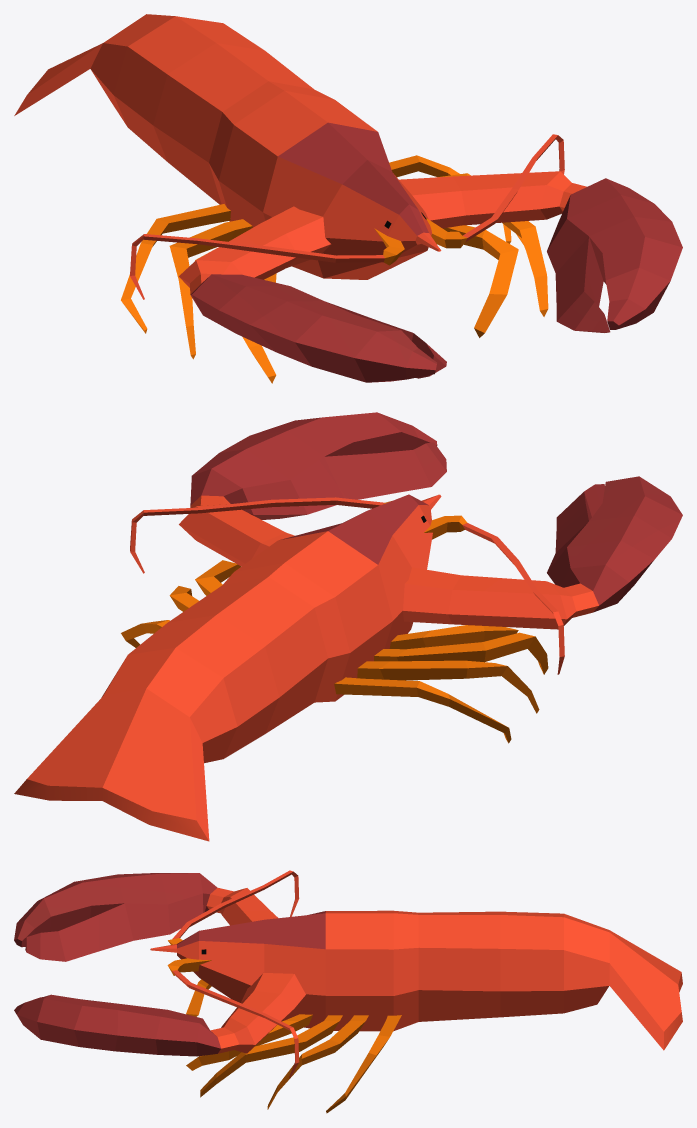
The model's file is animals-lobster-140.glb.
The picture shows the model from 3 angles, top to bottom: view 1: azimuth 30°, elevation 25°; view 2: azimuth 150°, elevation 25°; view 3: azimuth 270°, elevation 25°; orthographic projection. The views are drawn at different scales.
Parts seen in each view (by area): view 1: Geo_Lobster; view 2: Geo_Lobster; view 3: Geo_Lobster.
Boxes of the visible parts, x1,y1,x2,y2 form: Geo_Lobster: [14, 14, 682, 383]; Geo_Lobster: [14, 412, 682, 841]; Geo_Lobster: [14, 870, 682, 1113].
Bounding box in the file's own units: 51.23 × 18.97 × 86.81.
Materials: 1 (1 with a texture image).
